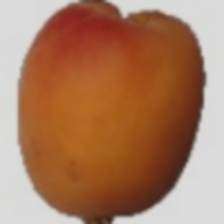apricot: (45, 0, 209, 196)
